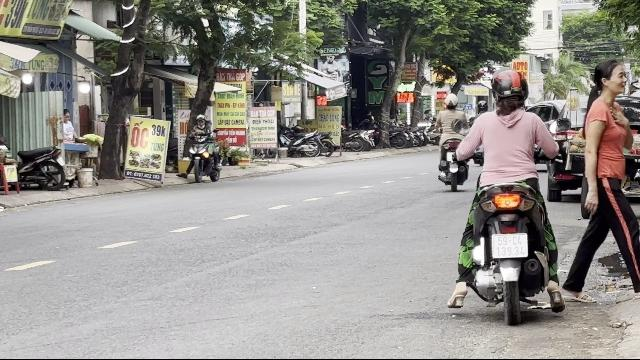helmet: (488, 68, 530, 112)
licenseplate: (492, 233, 528, 257)
motorcyclist: (447, 67, 565, 325)
